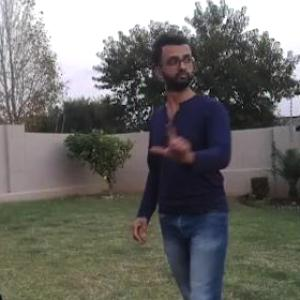land_hand: (148, 107, 198, 167)
